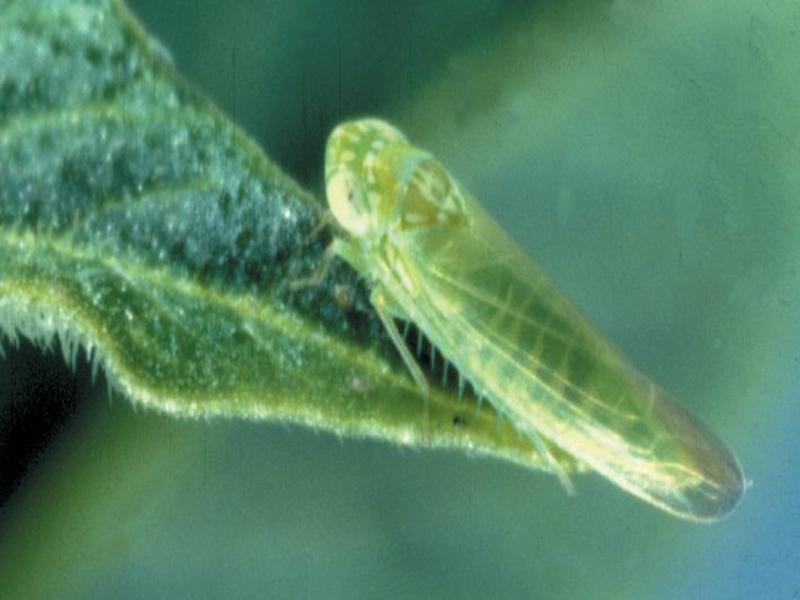Brown_plant_leafhopper: (252, 106, 765, 558)
